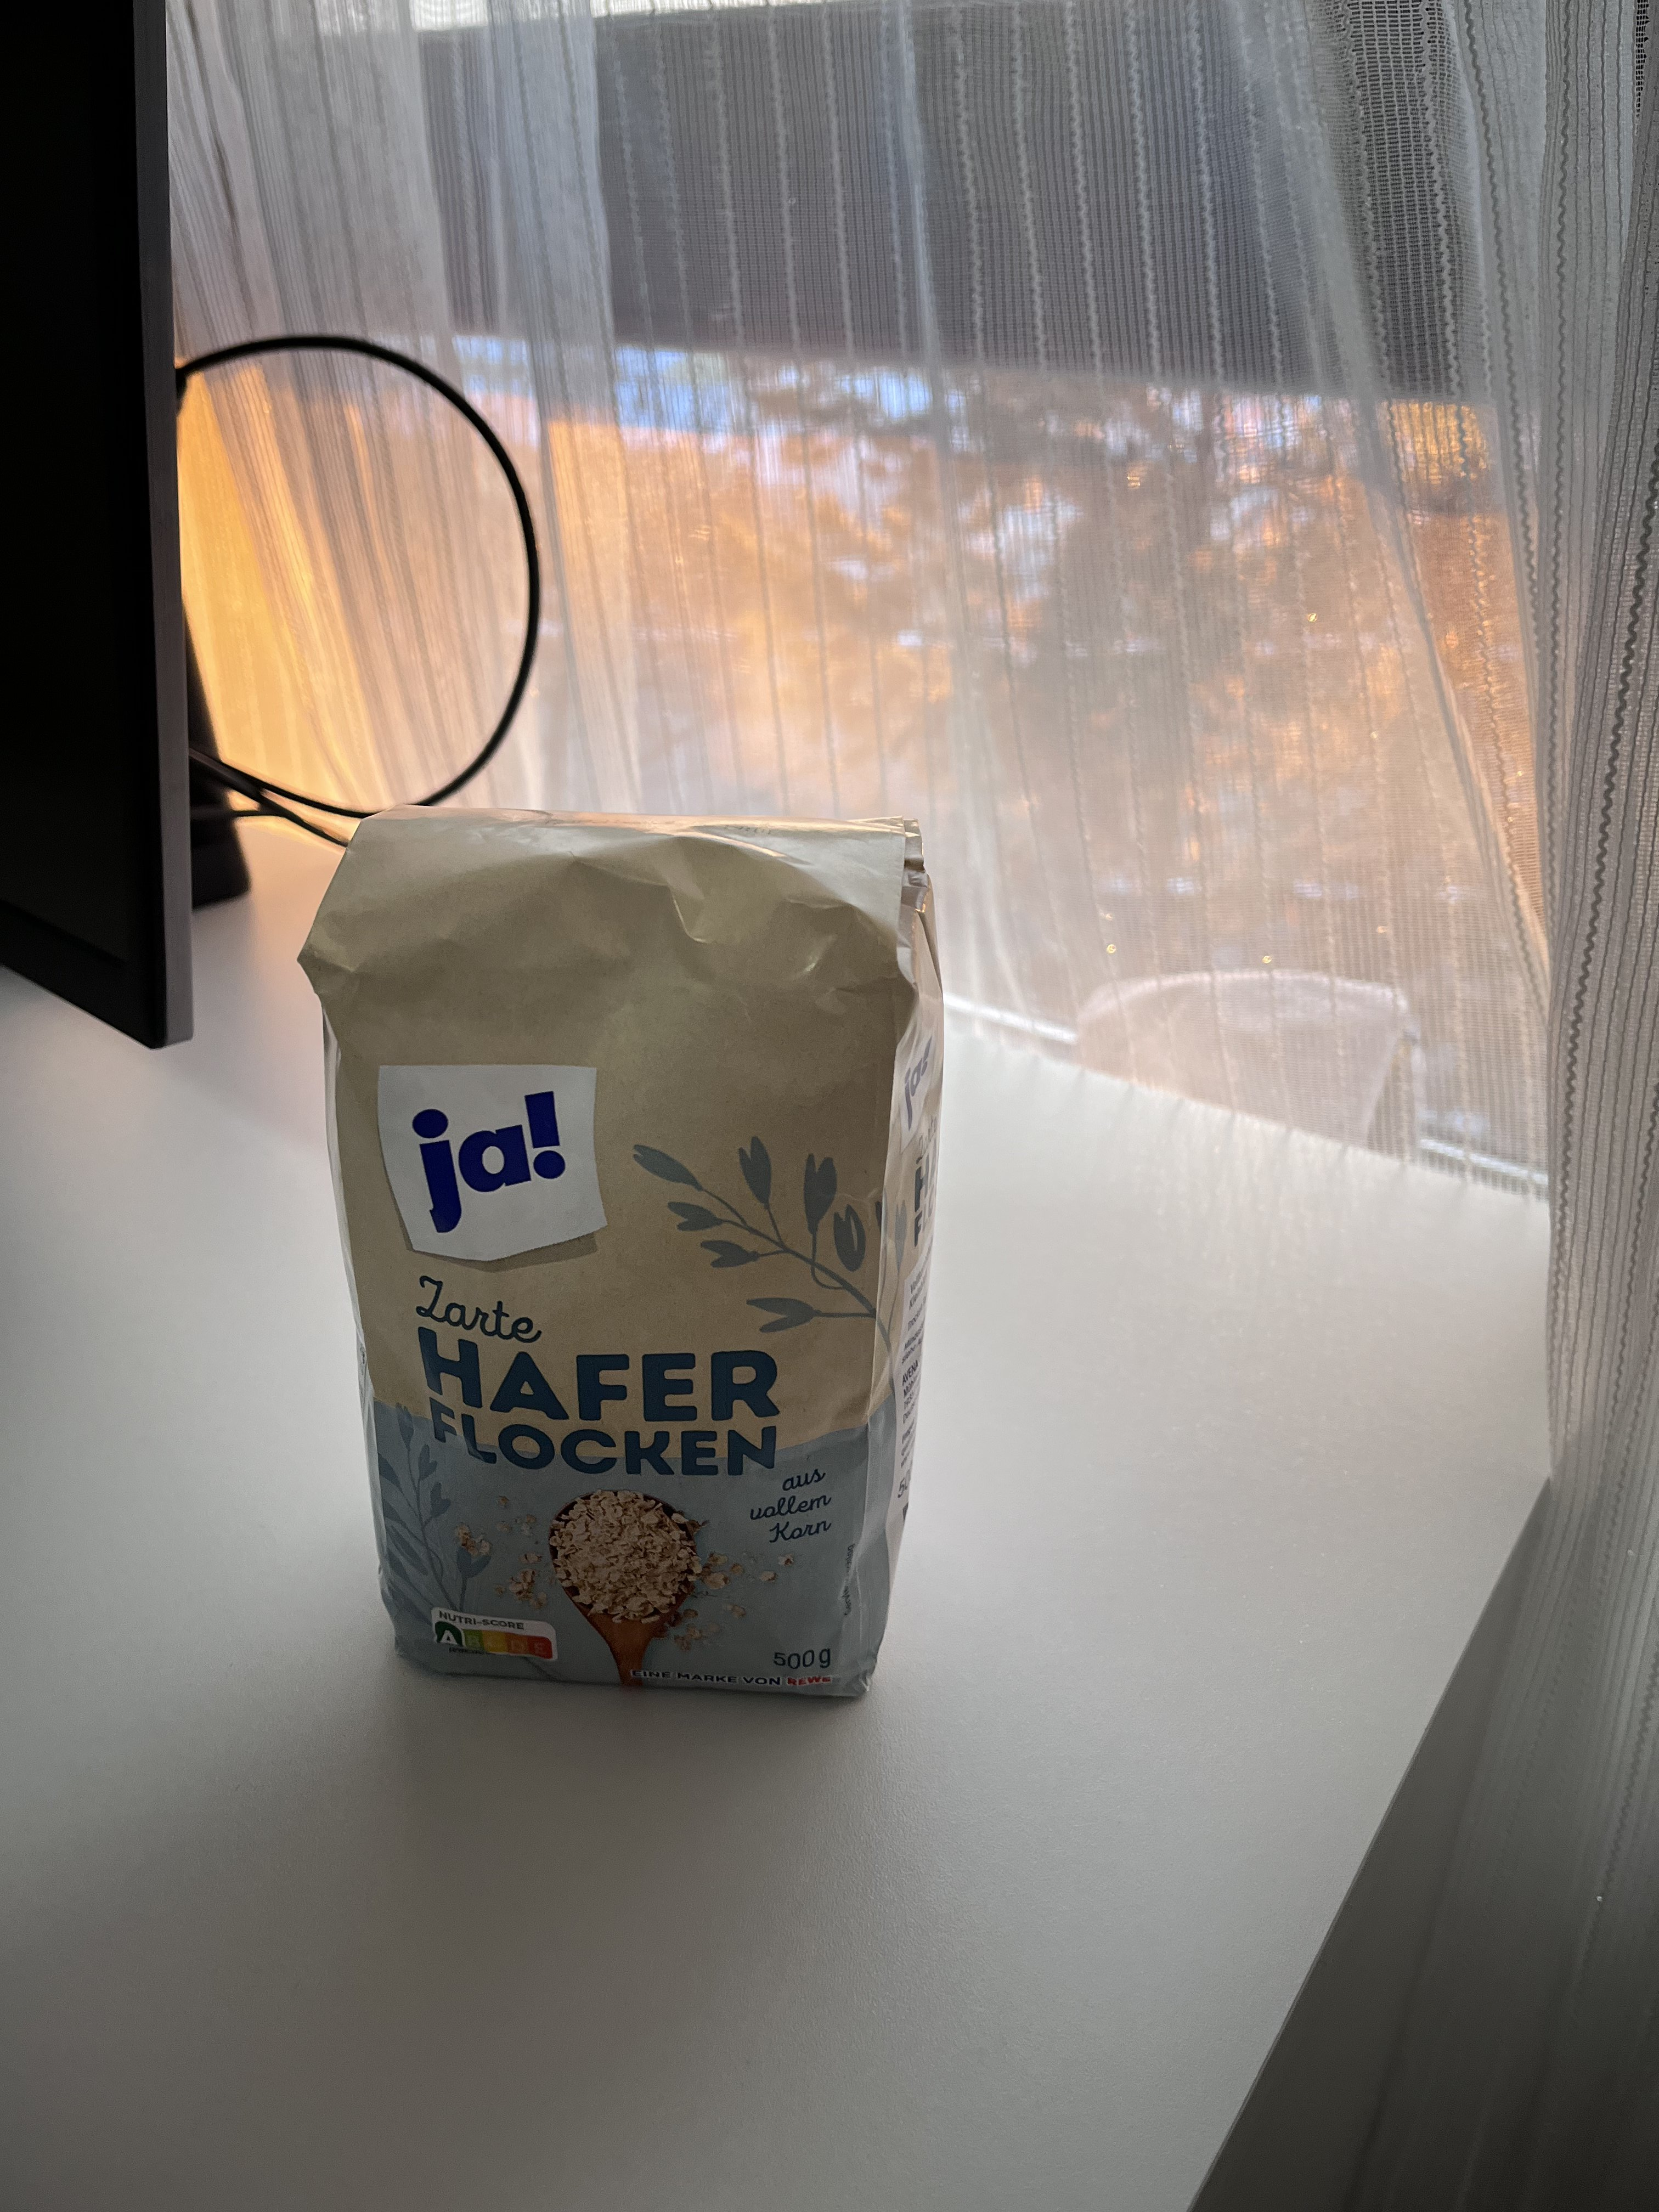haferflocken_ja: (296, 808, 943, 1710)
